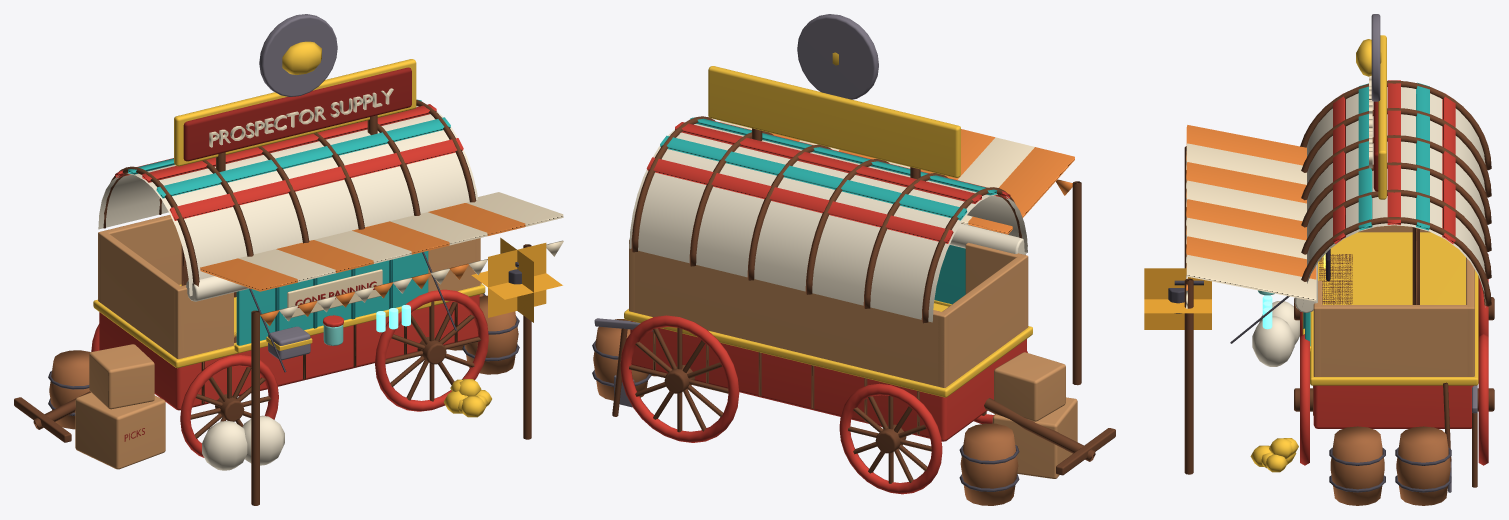
File: gulch_station.glb
3 views of the same model, side by side, from view 1: azimuth 30°, elevation 25°; view 2: azimuth 150°, elevation 25°; view 3: azimuth 270°, elevation 25° (orthographic). The views are drawn at different scales.
Visible parts, largest first — view 1: Station, Shutter, OpenDressing, ClosedSign; view 2: Station, Shutter; view 3: Station, OpenDressing.
Boxes of the visible parts, bbox=[...] form: Station: bbox=[14, 14, 563, 505]; Shutter: bbox=[234, 251, 431, 352]; OpenDressing: bbox=[249, 252, 456, 372]; ClosedSign: bbox=[287, 269, 382, 317]; Station: bbox=[592, 14, 1115, 505]; Shutter: bbox=[934, 245, 965, 306]; Station: bbox=[1144, 14, 1494, 505]; OpenDressing: bbox=[1230, 249, 1330, 343].
Size of the model in its own units: 7.31 by 5.93 by 4.78.
